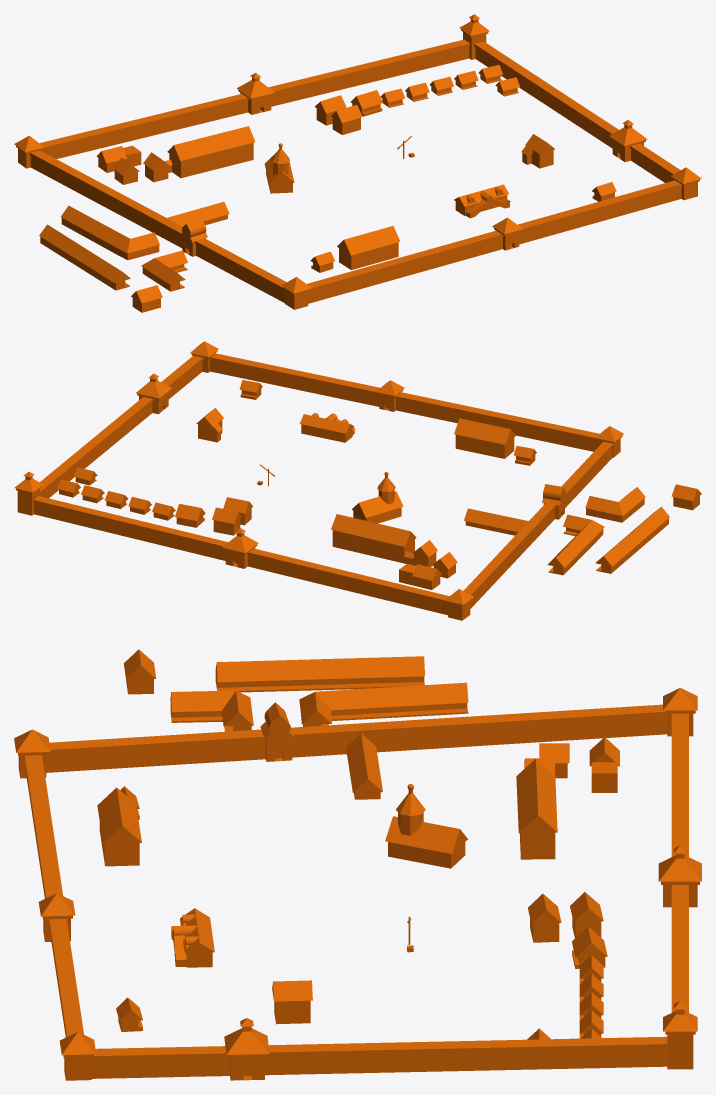
The model's file is Ostrog.glb.
The picture shows the model from 3 angles, top to bottom: view 1: azimuth 30°, elevation 25°; view 2: azimuth 150°, elevation 25°; view 3: azimuth 270°, elevation 25°; orthographic projection. The views are drawn at different scales.
Visible parts, largest first — view 1: Cube.004, Cube.009, Cube.005, Cube.008, Cube.011, Cube.010, Cube.006, Cube.007, Cube.070, Cube.067, Cube.068, Cube.091 (+3 smaller); view 2: Cube.004, Cube.009, Cube.005, Cube.008, Cube.010, Cube.006, Cube.007, Cube.011, Cube.068, Cube.067, Cube.070, Cube.091 (+6 smaller); view 3: Cube.011, Cube.007, Cube.010, Cube.006, Cube.008, Cube.005, Cube.070, Cube.068, Cube.091, Cube.093, Cube.087, Cube.058 (+20 smaller).
Boxes of the visible parts, <box> form: Cube.004: <box>41,46,469,158</box>; Cube.009: <box>308,187,681,303</box>; Cube.005: <box>39,39,469,150</box>; Cube.008: <box>307,180,682,291</box>; Cube.011: <box>30,156,284,302</box>; Cube.010: <box>29,150,287,292</box>; Cube.006: <box>474,41,680,175</box>; Cube.007: <box>475,48,674,182</box>; Cube.070: <box>61,205,159,253</box>; Cube.067: <box>169,142,253,178</box>; Cube.068: <box>167,126,255,160</box>; Cube.091: <box>337,226,400,255</box>; Cube.004: <box>34,502,447,615</box>; Cube.009: <box>210,360,598,451</box>; Cube.005: <box>33,496,449,603</box>; Cube.008: <box>209,353,599,440</box>; Cube.010: <box>463,441,615,595</box>; Cube.006: <box>40,355,203,494</box>; Cube.007: <box>40,361,202,498</box>; Cube.011: <box>470,447,612,608</box>; Cube.068: <box>331,514,416,546</box>; Cube.067: <box>332,530,414,563</box>; Cube.070: <box>547,514,604,567</box>; Cube.091: <box>454,418,515,444</box>; Cube.011: <box>46,715,667,772</box>; Cube.007: <box>91,1048,667,1078</box>; Cube.010: <box>48,704,667,753</box>; Cube.006: <box>91,1036,667,1060</box>; Cube.008: <box>24,755,83,1036</box>; Cube.005: <box>671,713,688,1012</box>; Cube.070: <box>299,682,468,724</box>; Cube.068: <box>516,758,557,832</box>; Cube.091: <box>97,787,141,843</box>; Cube.093: <box>385,816,467,853</box>; Cube.087: <box>346,733,382,792</box>; Cube.058: <box>331,703,468,720</box>.
Size of what is drawn, in the model's own units: 111 by 8.75 by 79.42.
